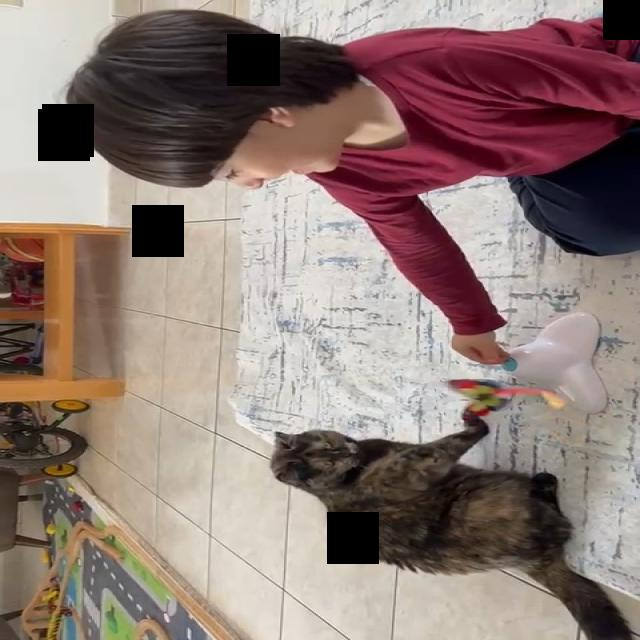authorized: (268, 414, 637, 639)
